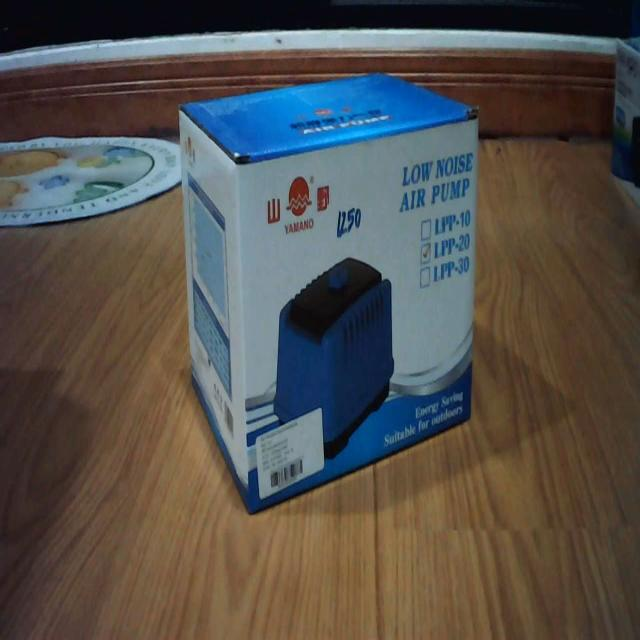YAMANO_LPP_20: (172, 63, 492, 527)
